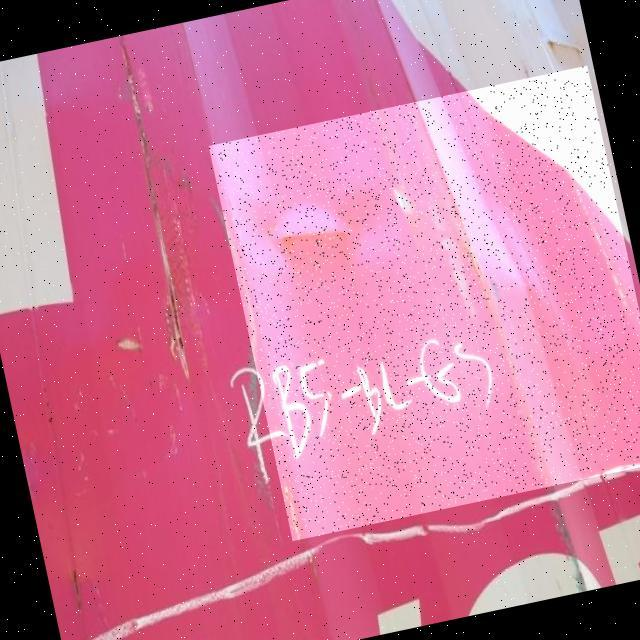Minor-Dent: (208, 65, 640, 541)
